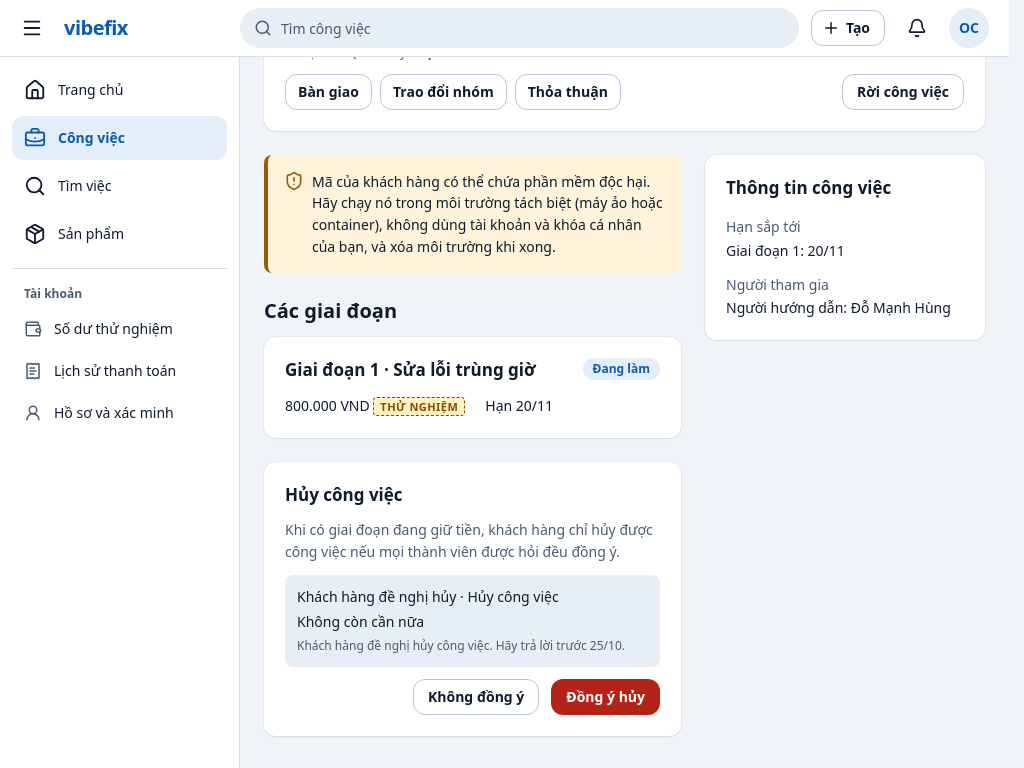
JOB-1 cancellation of a Self-mentored Job (Story 25.7, R14, R56, R57) › lets a member refuse, after a dialog that says the proposal ends
(page scrolled)
Click the button "Không đồng ý".
click(476, 697)  # box [413, 679, 539, 715]
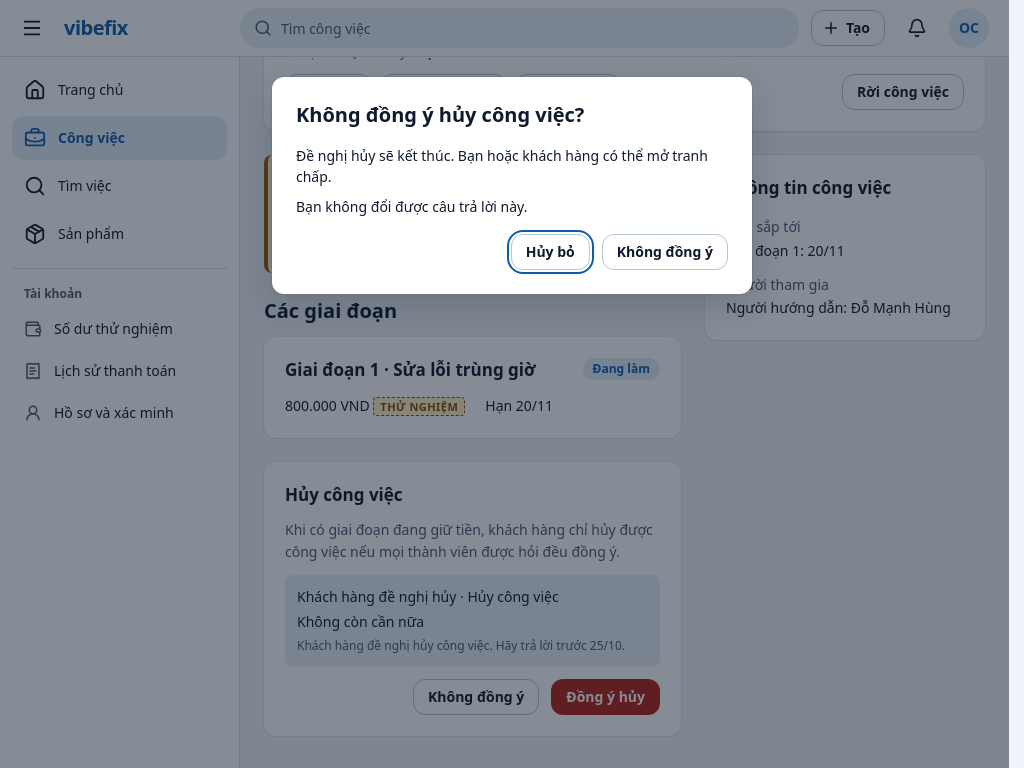
expect the text "mở tranh chấp" is shown: met, box [296, 146, 708, 186]
Click the button "Không đồng ý".
click(665, 252)  # box [602, 234, 728, 270]
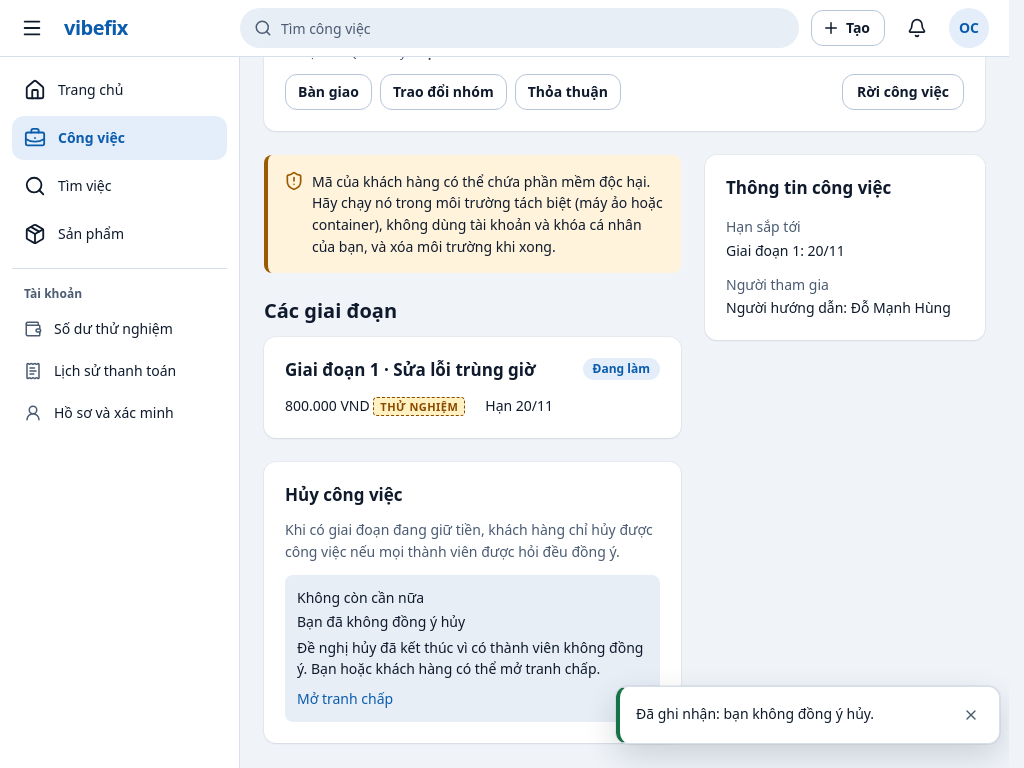
expect the text "Bạn đã không đồng ý hủy" is shown: met, box [297, 612, 465, 632]
expect the link "Mở tranh chấp" is shown: met, box [297, 688, 393, 710]
